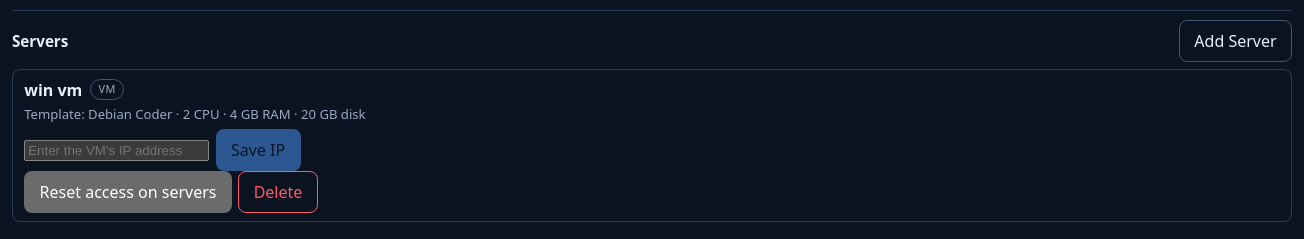
Scenario: UserServersPanel › guides VM servers to manual IP entry and saves it
This screenshot has width=1304, height=239.
Expected: the text "win vm" is shown, [24, 78, 82, 102]
Type "10.1.2.3" into the field named "server ip address" at (117, 150), box [24, 140, 209, 161]
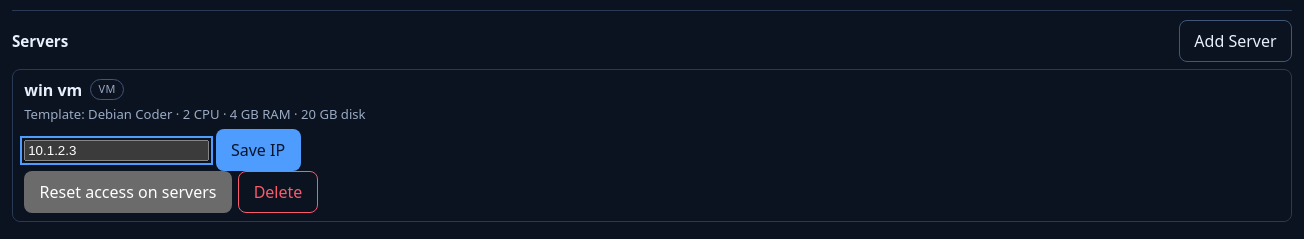
Click the button "Save IP" at (258, 150), box [216, 129, 301, 171]
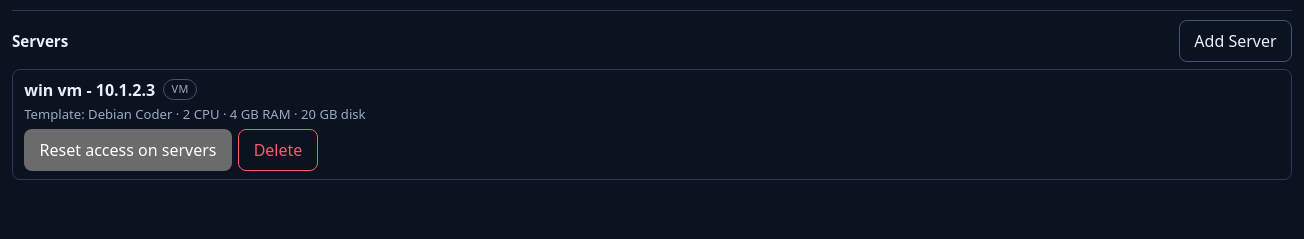
Expected: the text "win vm - 10.1.2.3" is shown, [24, 78, 155, 102]
